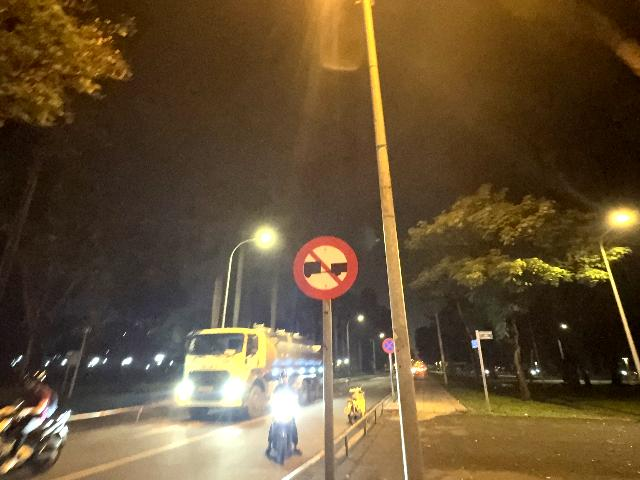cam-xe-somi-romooc: (293, 236, 358, 300)
